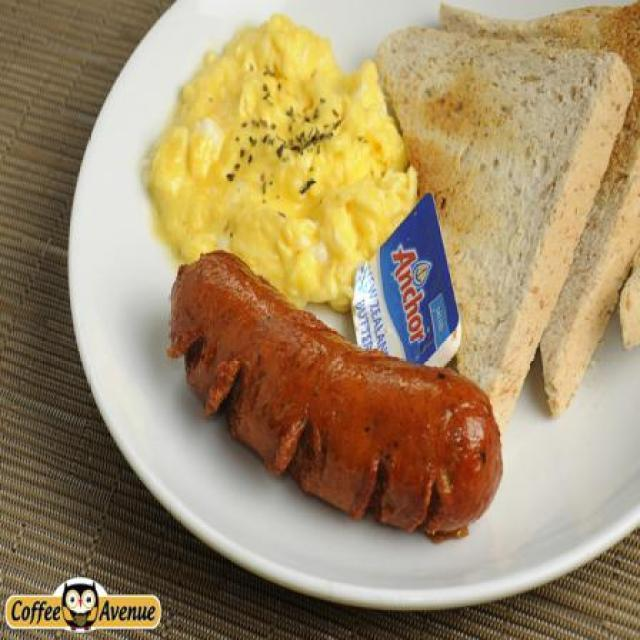Bread: (436, 0, 640, 419), (620, 254, 640, 358)
